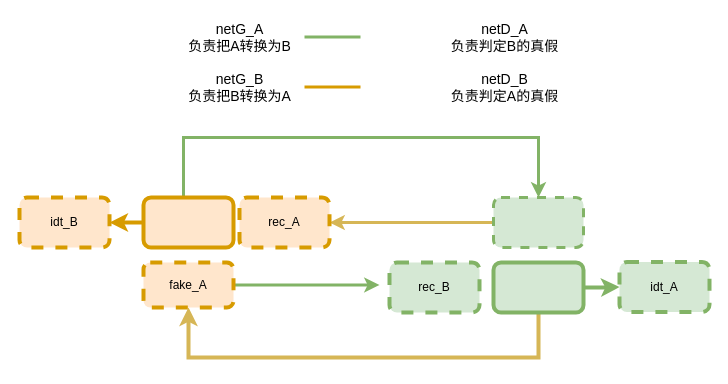
This 728x384 diagram has some shape labels left out. The centre of each missing label's shape, as x and y in pixels:
fake_B: the point at 538,222
real_A 训练的A样本: the point at 188,222
real_B 训练的B样本: the point at 538,287
